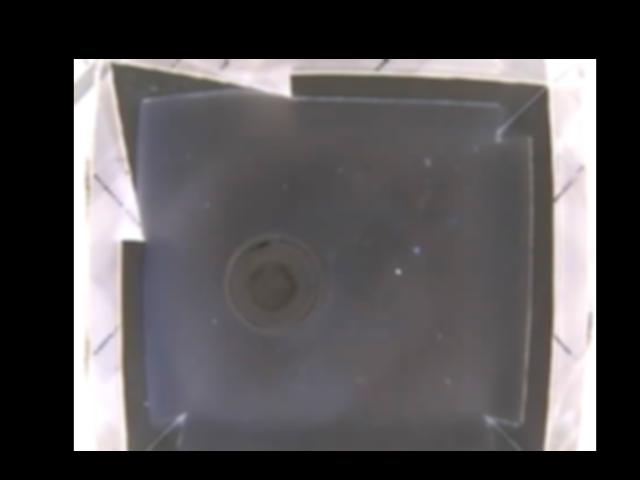Bottle: (223, 232, 325, 332)
